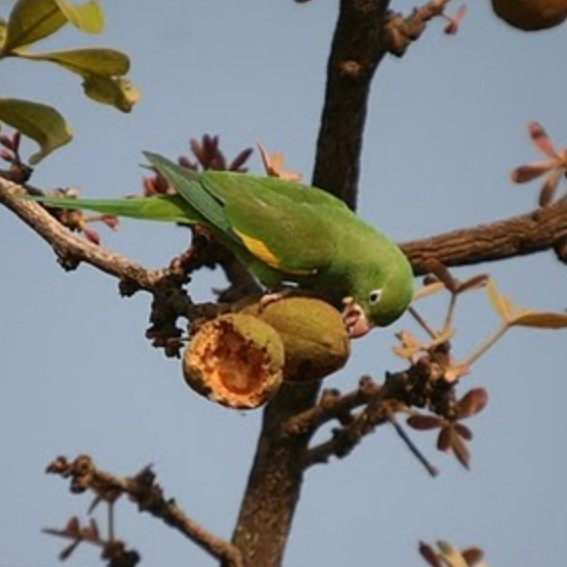Not_a_Chicken: (35, 131, 447, 333)
